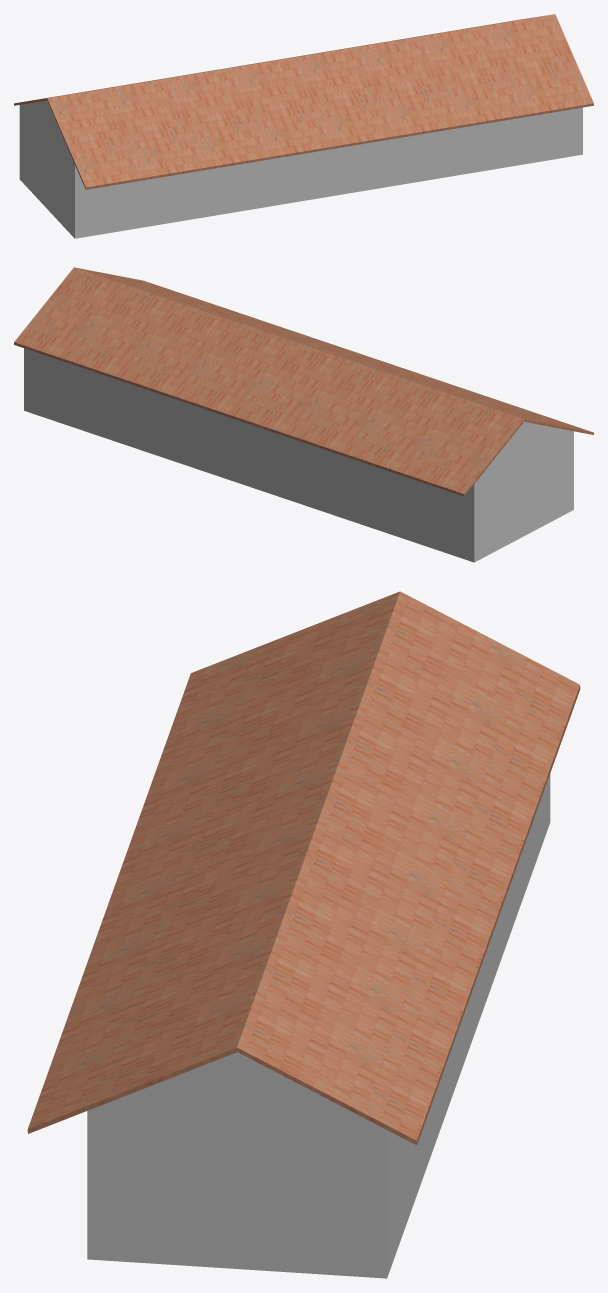
The model's file is BLOQUE11_LOD2.fbx.
3 views of the same model, one above another, from view 1: azimuth 30°, elevation 25°; view 2: azimuth 150°, elevation 25°; view 3: azimuth 270°, elevation 25° (orthographic). The views are drawn at different scales.
Visible parts, largest first — view 1: Techo_BLQ11_LOD2, BLQ11_LOD2; view 2: Techo_BLQ11_LOD2, BLQ11_LOD2; view 3: Techo_BLQ11_LOD2, BLQ11_LOD2.
Part boxes in pixels (bbox=[...]): Techo_BLQ11_LOD2: bbox=[14, 14, 593, 189]; BLQ11_LOD2: bbox=[19, 100, 582, 238]; Techo_BLQ11_LOD2: bbox=[14, 267, 593, 496]; BLQ11_LOD2: bbox=[24, 348, 573, 562]; Techo_BLQ11_LOD2: bbox=[27, 591, 580, 1145]; BLQ11_LOD2: bbox=[87, 774, 550, 1278].
Bounding box in the file's own units: 3754 × 806 × 1823.
